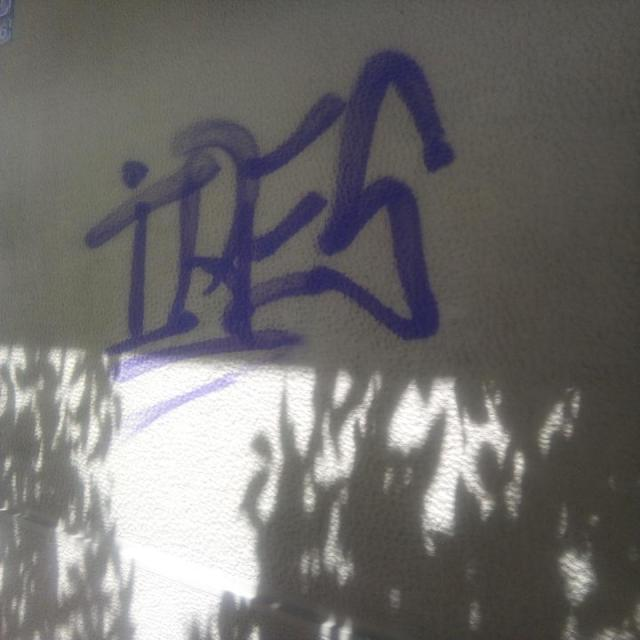nonspitting: (87, 46, 456, 432)
